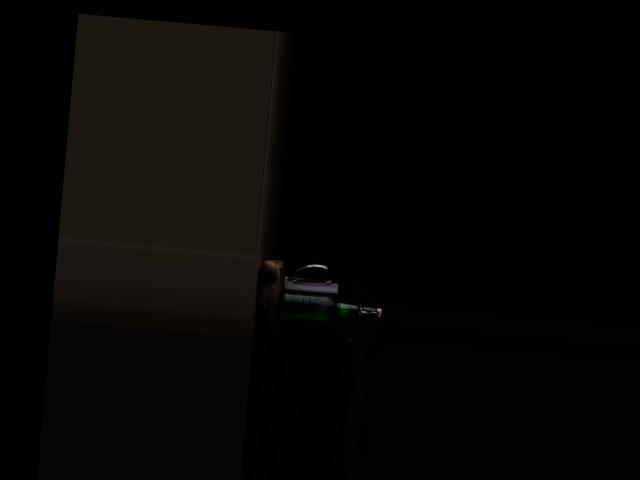beer: (276, 290, 382, 328)
